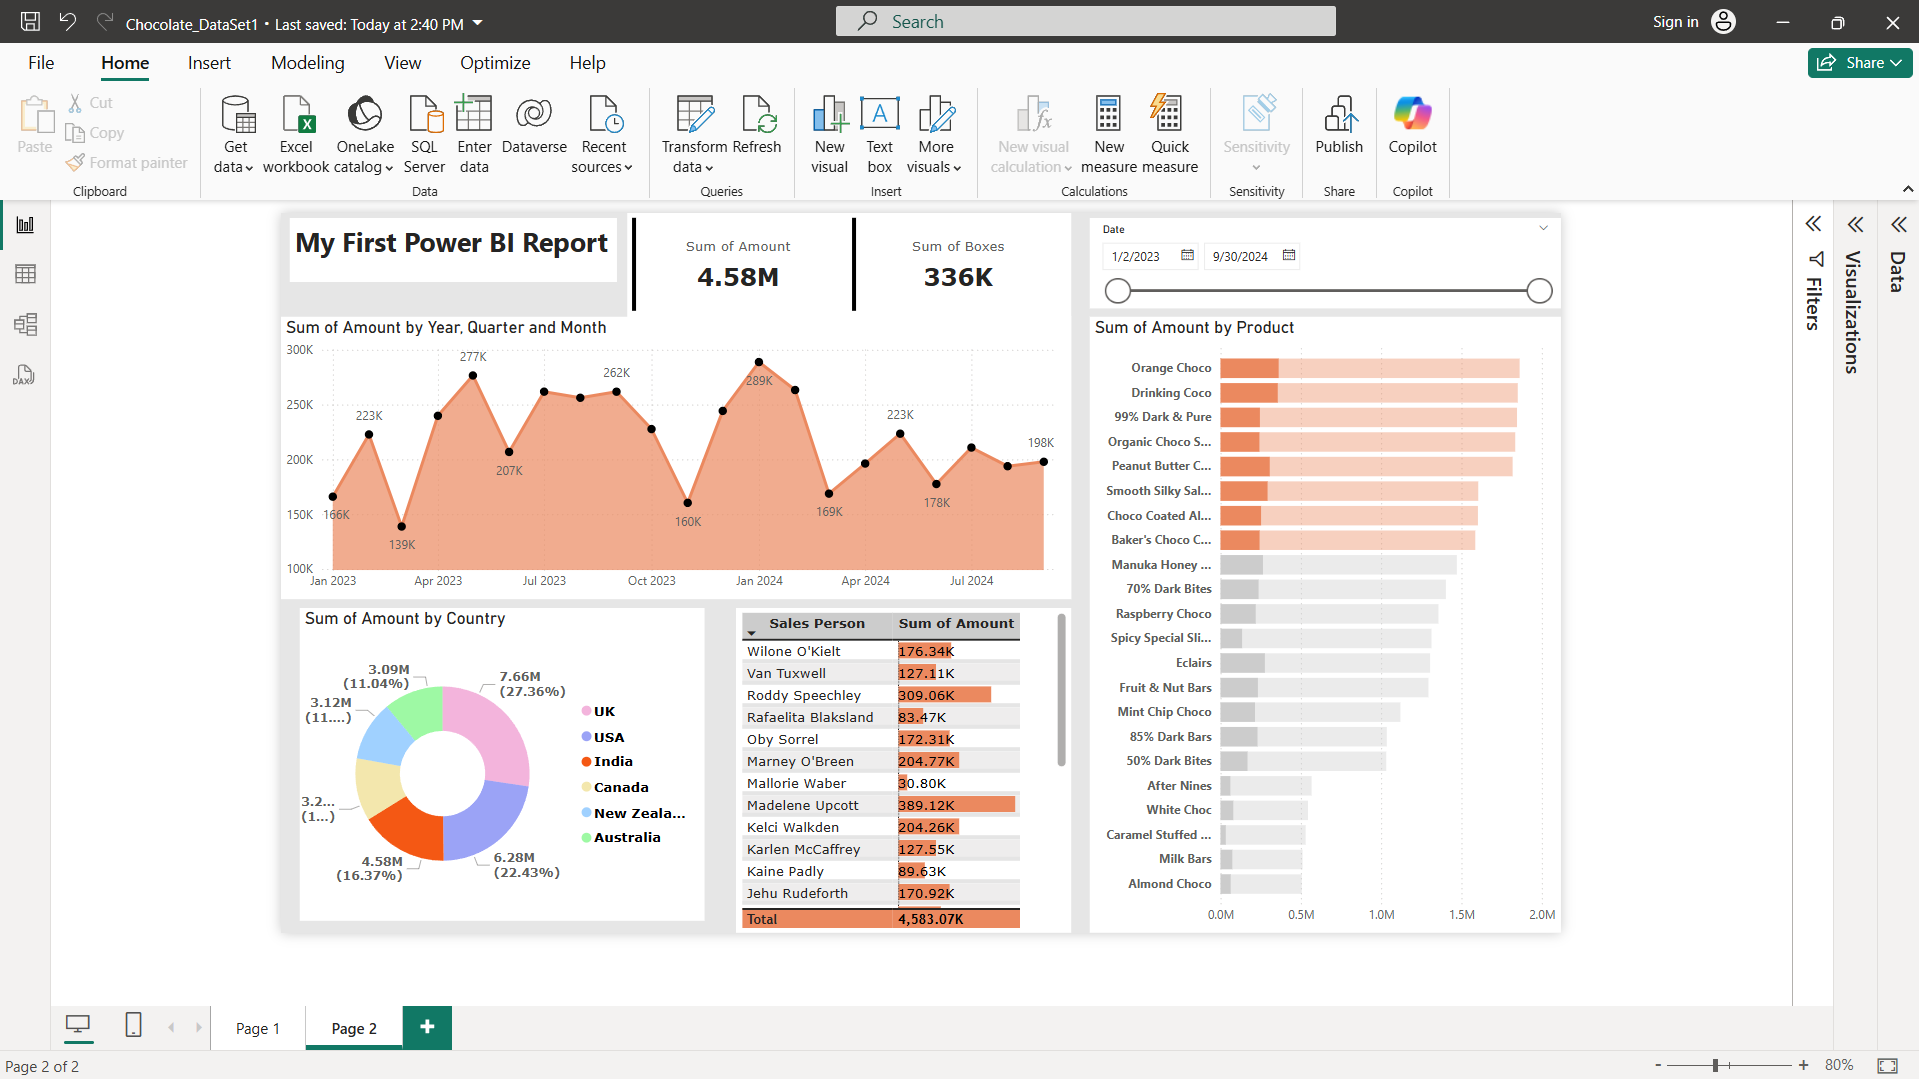

What the dashboard file says about the page in this screenshot:
{"tool":"powerbi","page":{"name":"Page 2","canvas":[1280,720],"ordinal":1},"visuals":[{"type":"lineChart","fields":{"Category":["data.Date.Variation.Date Hierarchy.Year","data.Date.Variation.Date Hierarchy.Quarter","data.Date.Variation.Date Hierarchy.Month","data.Date.Variation.Date Hierarchy.Day"],"Y":["Sum(data.Amount)"]},"box":[0,103.8,790,282.5],"z":0},{"type":"donutChart","fields":{"Category":["data.Country"],"Y":["Sum(data.Amount)"]},"box":[18.8,395,405,312.5],"z":1000},{"type":"tableEx","fields":{"Values":["data.Sales Person","Sum(data.Amount)"]},"box":[455,395,335,325],"z":2000},{"type":"clusteredBarChart","fields":{"Category":["data.Product"],"Y":["Sum(data.Amount)"]},"box":[808.8,103.8,471.2,616.2],"z":3000},{"type":"cardVisual","fields":{"Data":["Sum(data.Amount)","Sum(data.Boxes)"]},"box":[346.2,0,443.8,103.8],"z":4000},{"type":"slicer","fields":{"Values":["data.Date"]},"box":[808.8,5,471.2,90],"z":5000},{"type":"textbox","box":[8.8,5,327.5,63.8],"z":6000}]}

Visuals, with their boxes on the page's 1280x720 design canvas (x1, y1, x2, y2). These are canvas units, not pixel positions in the 1919x1079 screenshot, which may show the page scaled, cropped or inside an application window:
lineChart - data.Date.Variation.Date Hierarchy.Year x data.Date.Variation.Date Hierarchy.Quarter: region(0, 104, 790, 386)
donutChart - data.Country x Sum(data.Amount): region(19, 395, 424, 708)
tableEx - data.Sales Person x Sum(data.Amount): region(455, 395, 790, 720)
clusteredBarChart - data.Product x Sum(data.Amount): region(809, 104, 1280, 720)
cardVisual - Sum(data.Amount) x Sum(data.Boxes): region(346, 0, 790, 104)
slicer - data.Date: region(809, 5, 1280, 95)
textbox: region(9, 5, 336, 69)
